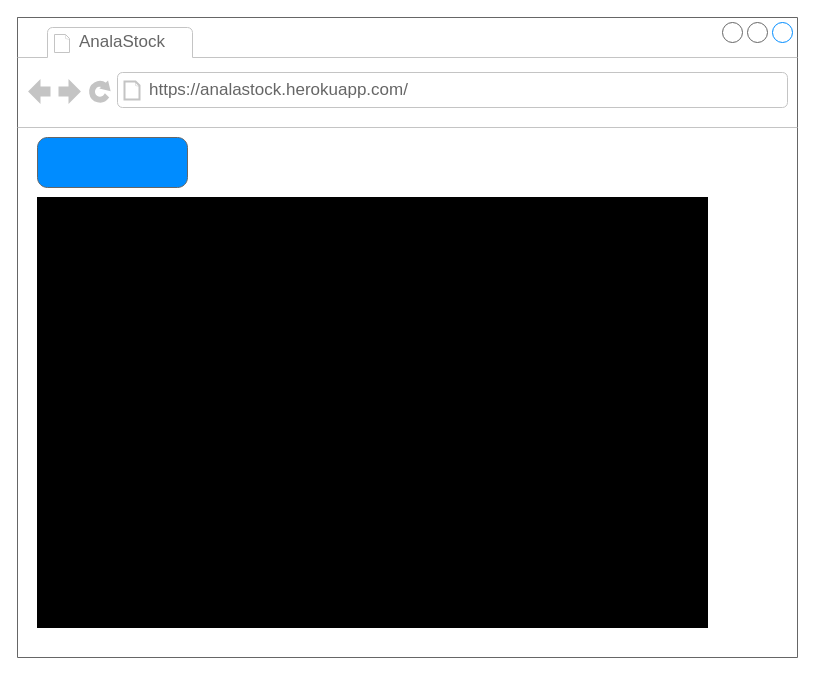
The diagram is 815 pixels wide and 675 high, and some of its shapes have lost their labels. Each missing label, with the box of its shape:
Enter symbol:: (36, 196, 188, 228)
Run AnalaStock: (36, 136, 188, 188)
